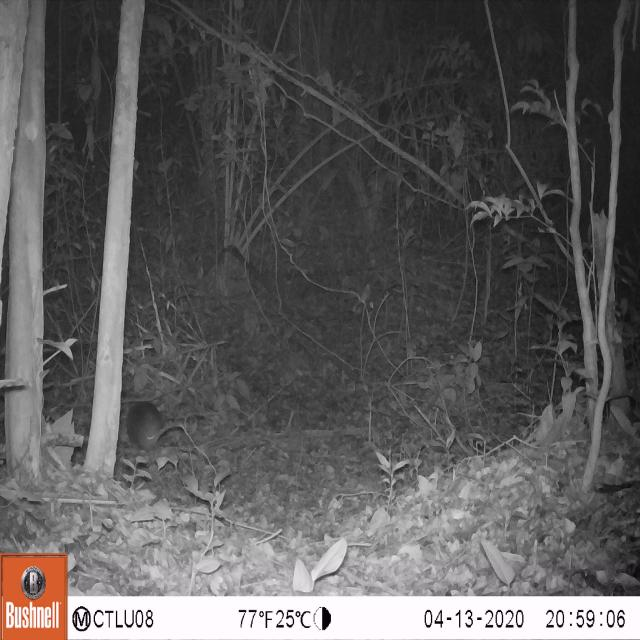Armadillo: (120, 390, 176, 471)
